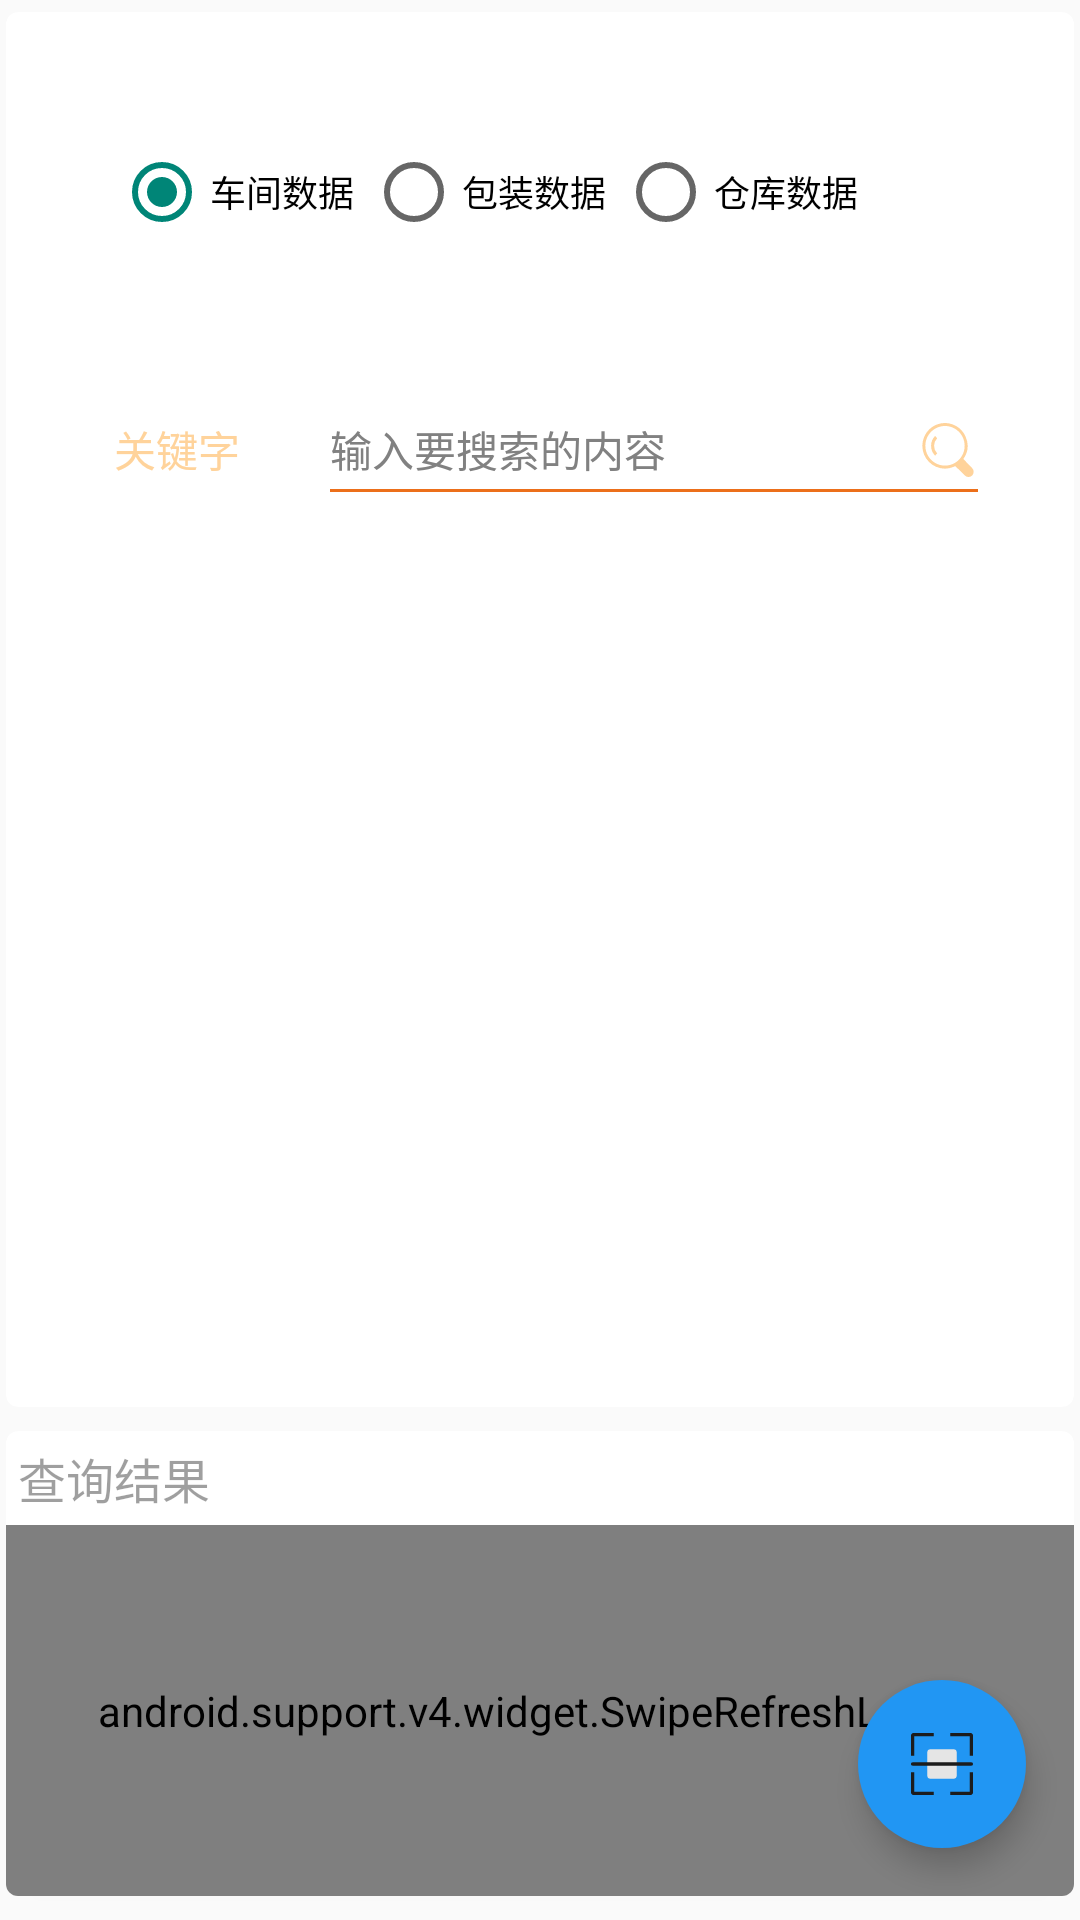

Where icons sit on this 1080w x 1920h app screen, as (x1, y1, x2, y2):
barcodescanner: (858, 1680, 1026, 1848)
search: (922, 423, 974, 477)
